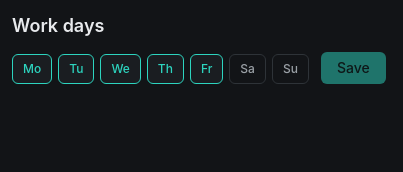
Test: WorkDaysSection › clears the draft once a save lands
Expected: the button with aria-label "Monday" is shown, [12,54,52,84]
Click the button with aria-label "Saturday": (248, 69) [229,54,266,84]
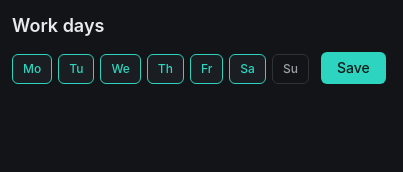
Click the button "Save": (353, 68) [321,52,386,84]
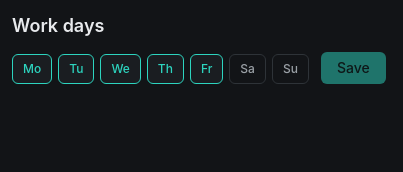
Expected: the button "Save" is disabled, [321,52,386,84]
